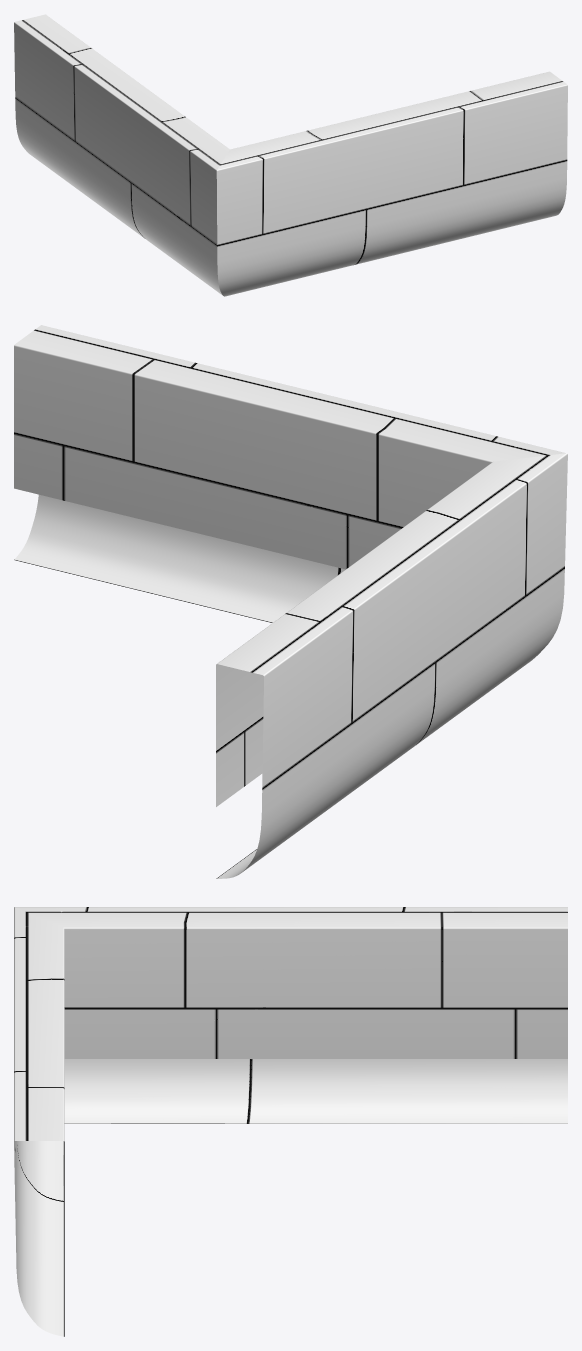
File: Parapet01_350cmAngle4.FBX
3 renders of one model, top to bottom at view 1: azimuth 30°, elevation 25°; view 2: azimuth 150°, elevation 25°; view 3: azimuth 270°, elevation 25°, orthographic. The views are drawn at different scales.
Parts seen in each view (by area): view 1: Parapet01_350cmAngle4; view 2: Parapet01_350cmAngle4; view 3: Parapet01_350cmAngle4.
Part boxes in pixels (x1,y1,x2,y2): Parapet01_350cmAngle4: [14, 14, 567, 296]; Parapet01_350cmAngle4: [14, 325, 567, 878]; Parapet01_350cmAngle4: [14, 907, 567, 1336].
Bounding box in the file's own units: 385 × 150 × 385.
